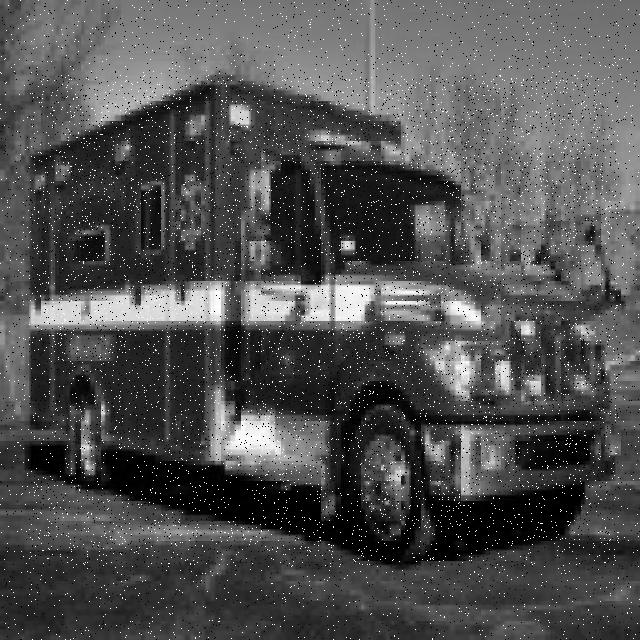Ambulance: (28, 75, 619, 567)
